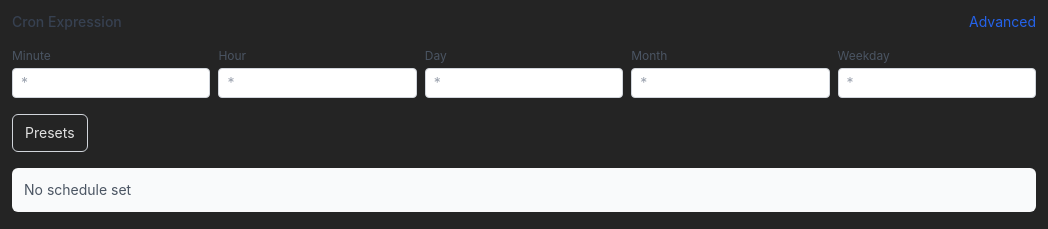
Scenario: CronBuilder › allows switching between simple and advanced mode
Check: the field labelled "Minute" is shown, box [12,68,210,98]
Check: the field labelled "Hour" is shown, box [218,68,417,98]
# Switch to advanced mode
Step 1. Click the button "Advanced" → coordinates (1002, 22), box [969,12,1036,32]
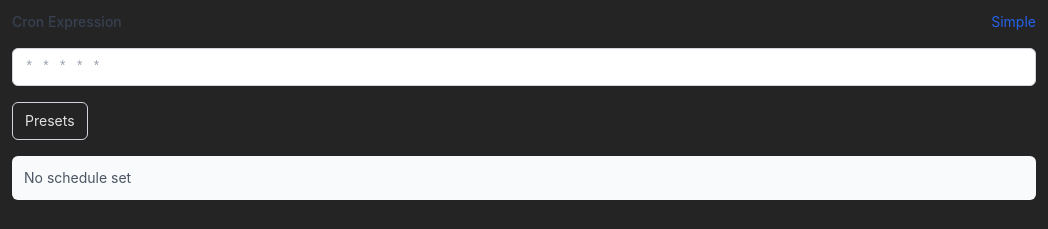
Check: the field named "Cron expression input" is shown, box [12,48,1036,86]
Check: the label labelled "Minute" is gone
